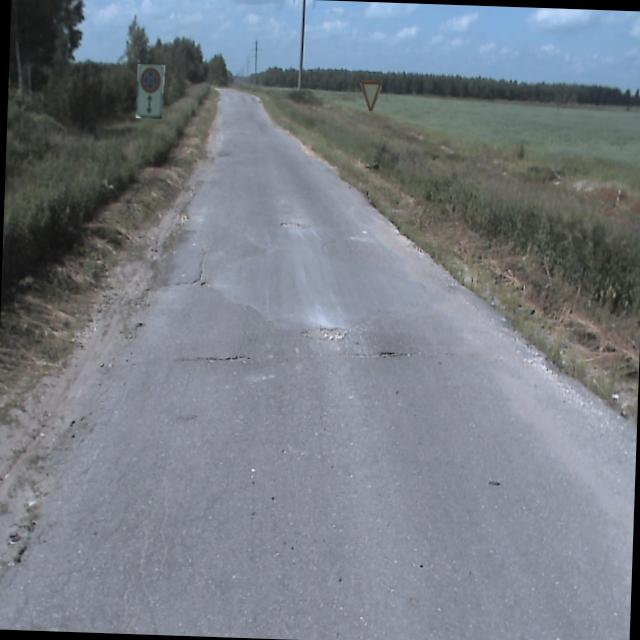road: (0, 88, 636, 640)
